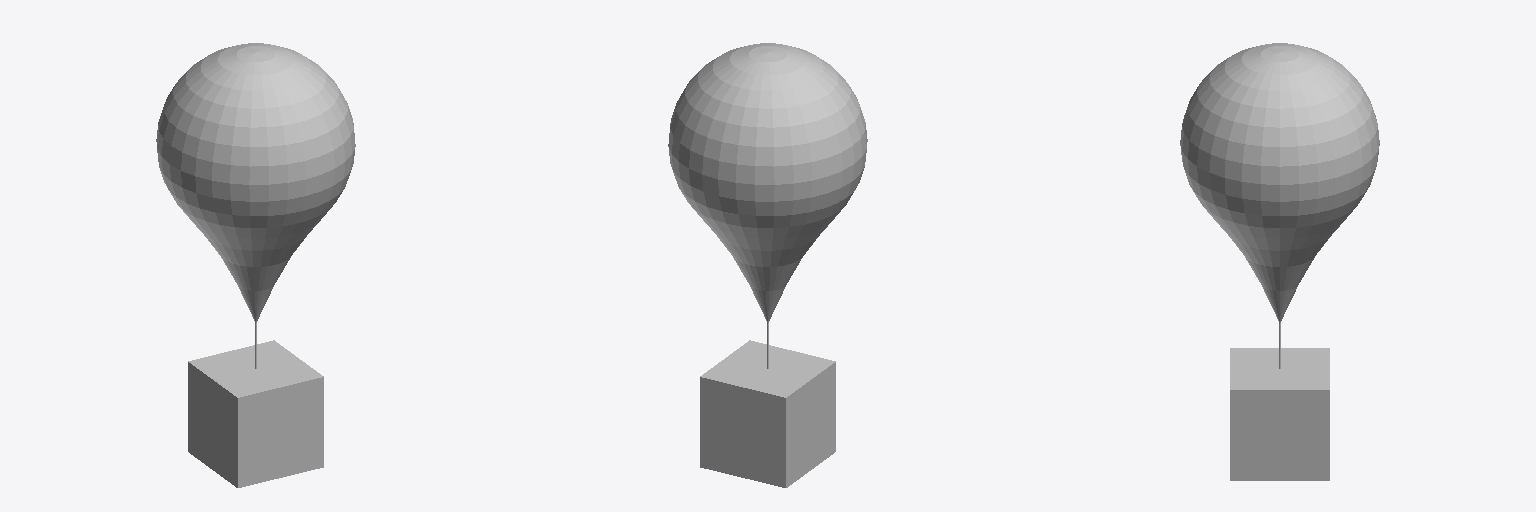
File: sonde.obj
The picture shows the model from 3 angles: view 1: azimuth 30°, elevation 25°; view 2: azimuth 150°, elevation 25°; view 3: azimuth 270°, elevation 25°; orthographic projection.
Parts seen in each view (by area): view 1: Balloon_Sphere.005, Cube_Cube.003; view 2: Balloon_Sphere.005, Cube_Cube.003; view 3: Balloon_Sphere.005, Cube_Cube.003.
Boxes of the visible parts, x1,y1,x2,y2 form: Balloon_Sphere.005: [156, 43, 355, 321]; Cube_Cube.003: [188, 340, 323, 487]; Balloon_Sphere.005: [668, 43, 867, 321]; Cube_Cube.003: [700, 340, 835, 487]; Balloon_Sphere.005: [1180, 43, 1379, 321]; Cube_Cube.003: [1230, 348, 1329, 480].
Size of the model in its own units: 2 by 4.5 by 2.